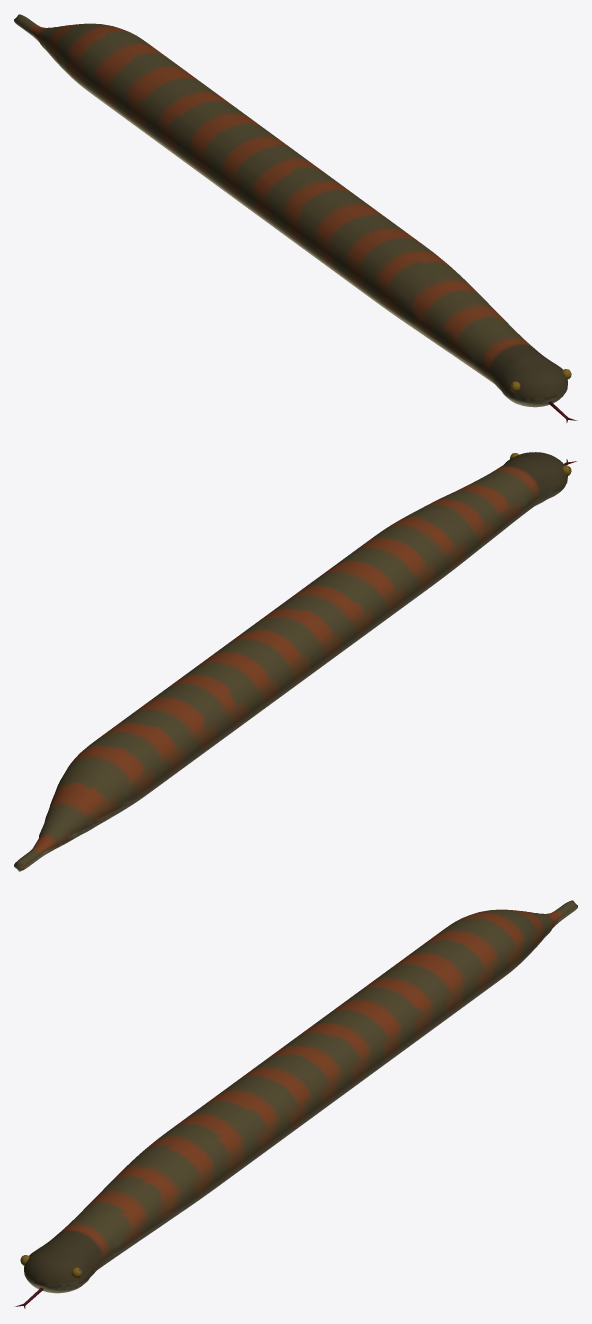
Rendered from Sanajeh.fbx.
The picture shows the model from 3 angles, top to bottom: view 1: azimuth 30°, elevation 25°; view 2: azimuth 150°, elevation 25°; view 3: azimuth 330°, elevation 25°; orthographic projection.
Parts seen in each view (by area): view 1: Sanajeh; view 2: Sanajeh; view 3: Sanajeh.
Boxes of the visible parts, <box> form: Sanajeh: <box>14,14,577,422</box>; Sanajeh: <box>14,452,576,871</box>; Sanajeh: <box>14,900,577,1308</box>.
Size of the model in its own units: 0.1852 by 0.1486 by 2.49.
